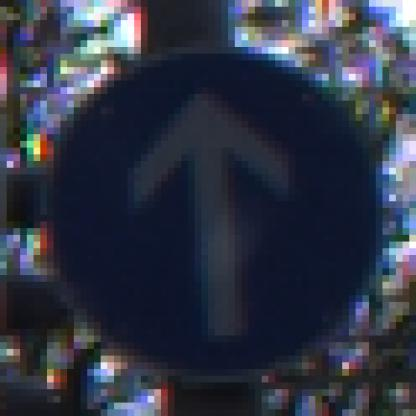AheadOnly: (35, 35, 384, 384)
